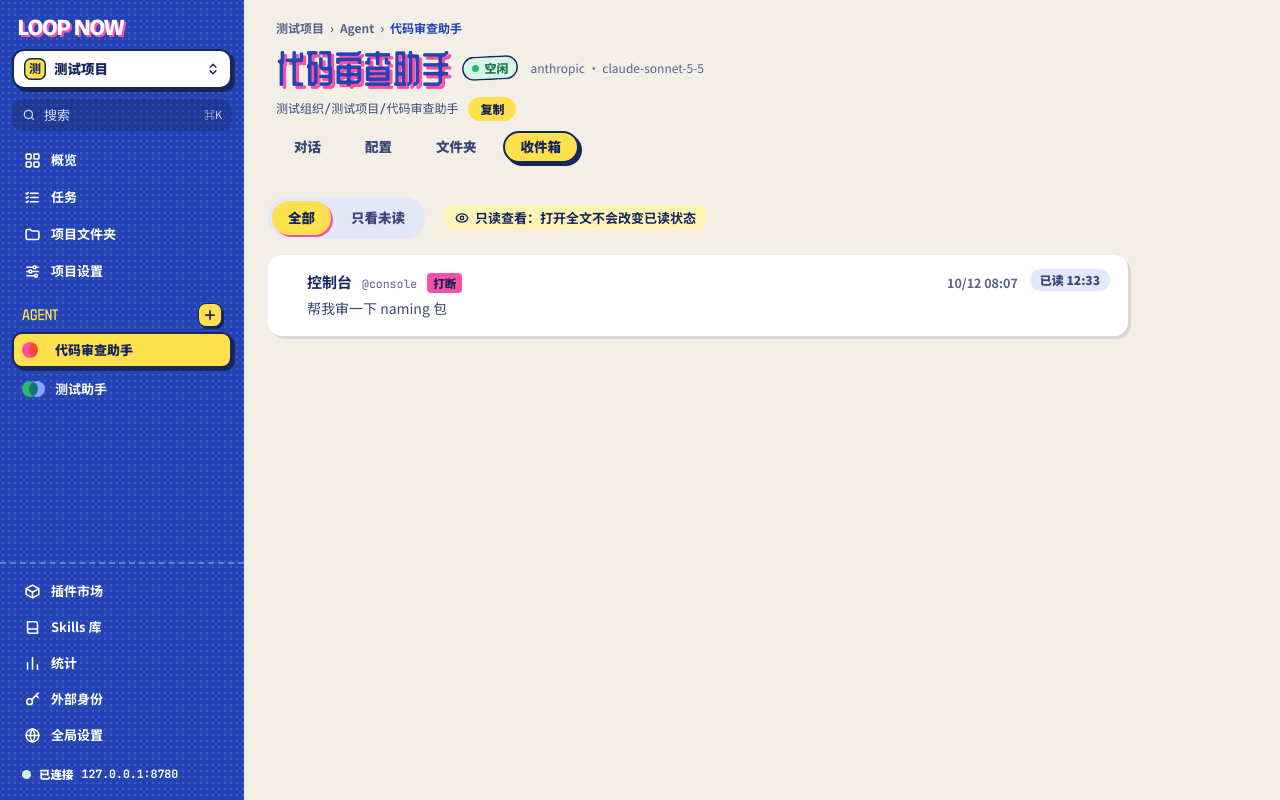
Test case: 每个 Agent 的收件箱只读 › 只看未读且没有未读消息时，说明没有未读消息
Step 1. Click the radio button labelled "只看未读" → (378, 218), box [335,201,421,235]
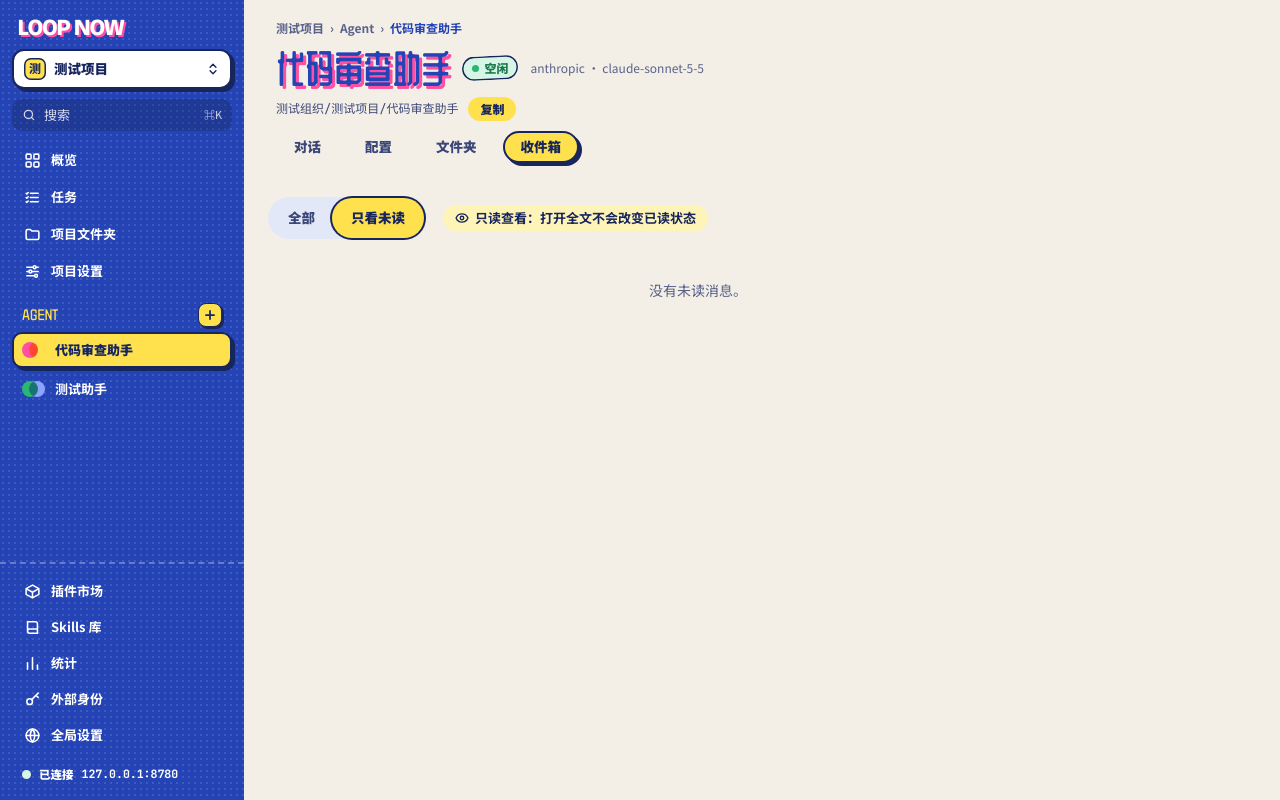
Check: the text "没有未读消息。" is shown, box [649,282,747,299]
